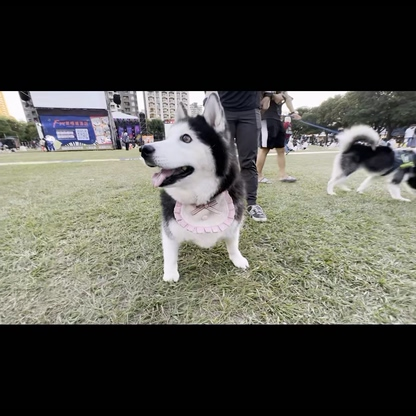husky: (134, 92, 256, 285)
